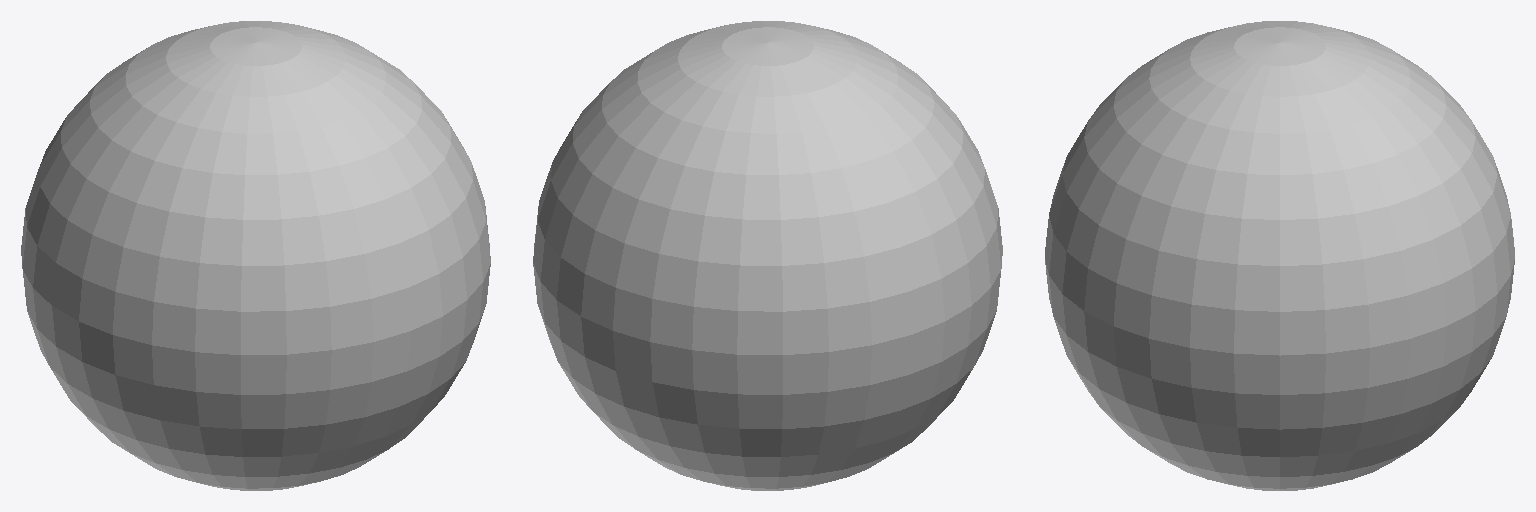
The model's file is playerLeftHand.obj.
3 renders of one model, left to right at view 1: azimuth 30°, elevation 25°; view 2: azimuth 150°, elevation 25°; view 3: azimuth 270°, elevation 25°, orthographic.
Parts seen in each view (by area): view 1: Sphere.001; view 2: Sphere.001; view 3: Sphere.001.
Boxes of the visible parts, x1=… form: Sphere.001: x1=21, y1=21, x2=490, y2=490; Sphere.001: x1=533, y1=21, x2=1002, y2=490; Sphere.001: x1=1045, y1=21, x2=1514, y2=490.
Size of the model in its own units: 1.08 by 1.08 by 1.08.